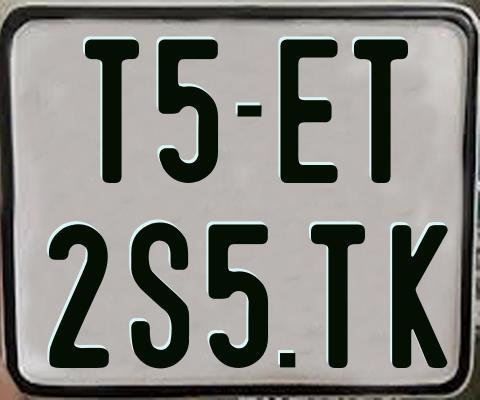2: (46, 221, 111, 366)
5: (208, 221, 272, 371), (158, 37, 222, 185)
E: (277, 36, 338, 184)
K: (389, 225, 447, 371)
S: (129, 221, 190, 370)
T: (353, 37, 411, 187), (308, 222, 368, 366), (82, 38, 137, 184)
